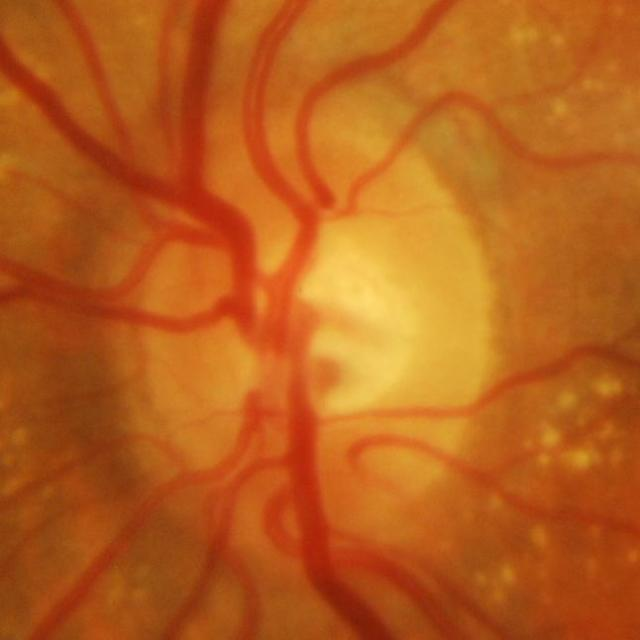OC: (234, 215, 428, 412)
OD: (95, 116, 498, 558)
